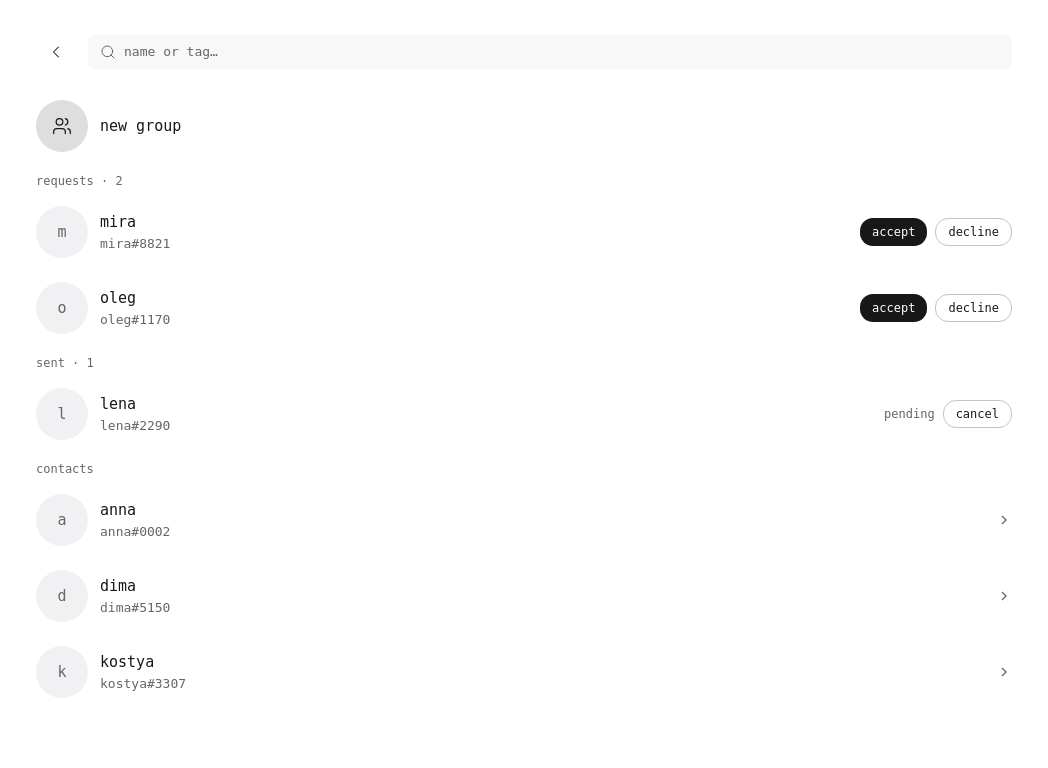
Test: S6 contacts and requests › global result sends a request — it becomes 'requested', never a contact
Type "nina" into the field with test id "contact-search-input" at coordinates (562, 52), box top-left (124, 42), bottom-right (1000, 62)
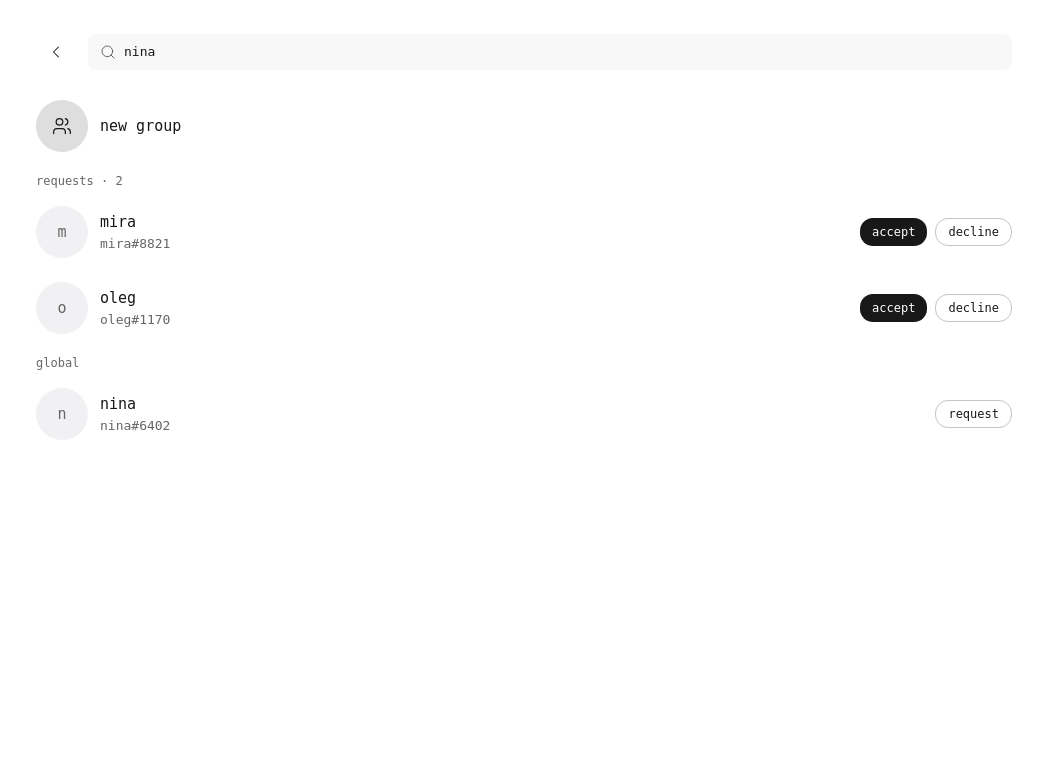
expect the button with test id "add-contact" is shown: met
Click the button with test id "add-contact" at coordinates (974, 414), box top-left (935, 400), bottom-right (1012, 428)
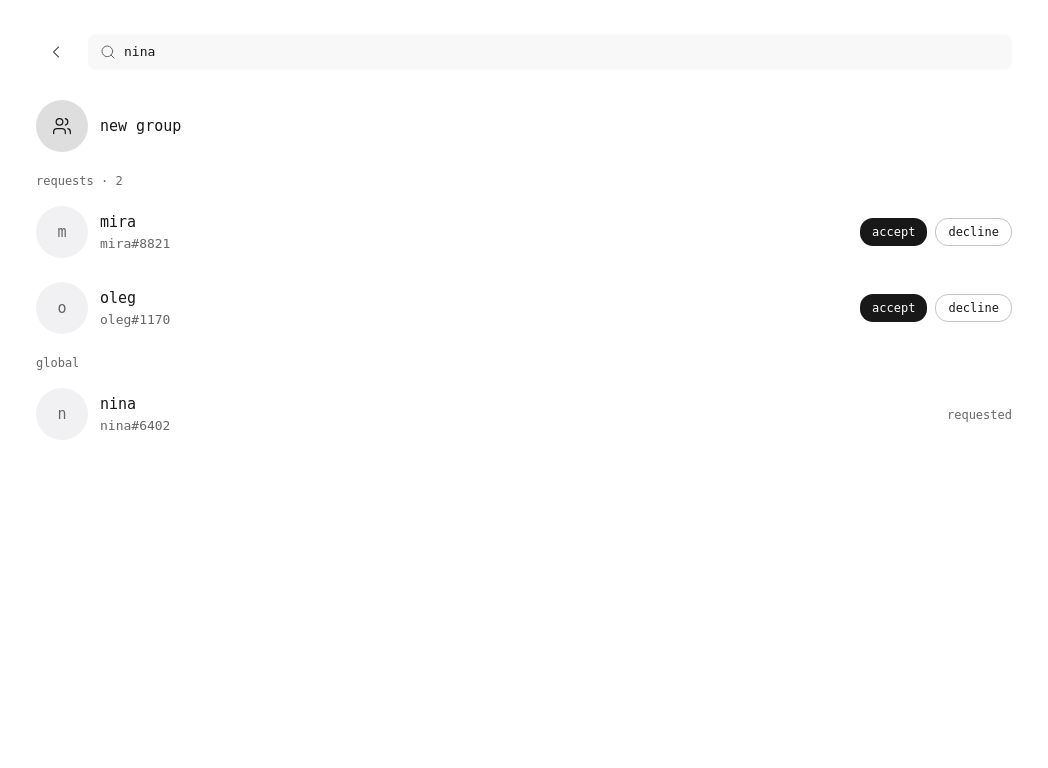
expect the text with test id "request-sent" reads "requested": met, box top-left (947, 408), bottom-right (1012, 422)
